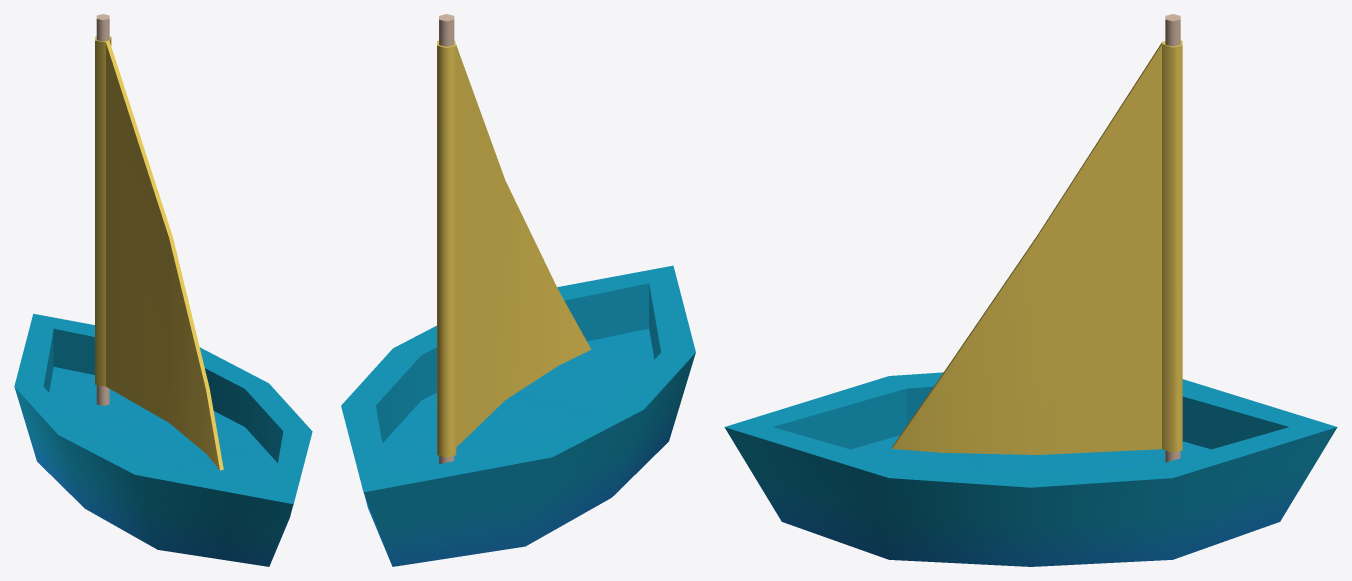
File: SM_Boat_02.fbx
The picture shows the model from 3 angles, left to right: view 1: azimuth 30°, elevation 25°; view 2: azimuth 150°, elevation 25°; view 3: azimuth 270°, elevation 25°; orthographic projection. The views are drawn at different scales.
Parts seen in each view (by area): view 1: SM_Boat_02; view 2: SM_Boat_02; view 3: SM_Boat_02.
Boxes of the visible parts, bbox=[...] form: SM_Boat_02: bbox=[14, 14, 312, 566]; SM_Boat_02: bbox=[341, 14, 695, 566]; SM_Boat_02: bbox=[724, 14, 1337, 566].
Size of the model in its own units: 17.09 by 33.16 by 36.55.
